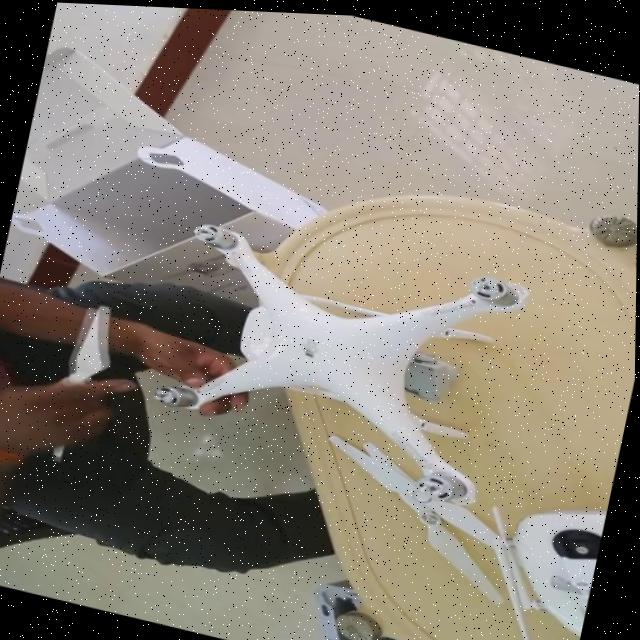drones: (107, 105, 591, 525)
